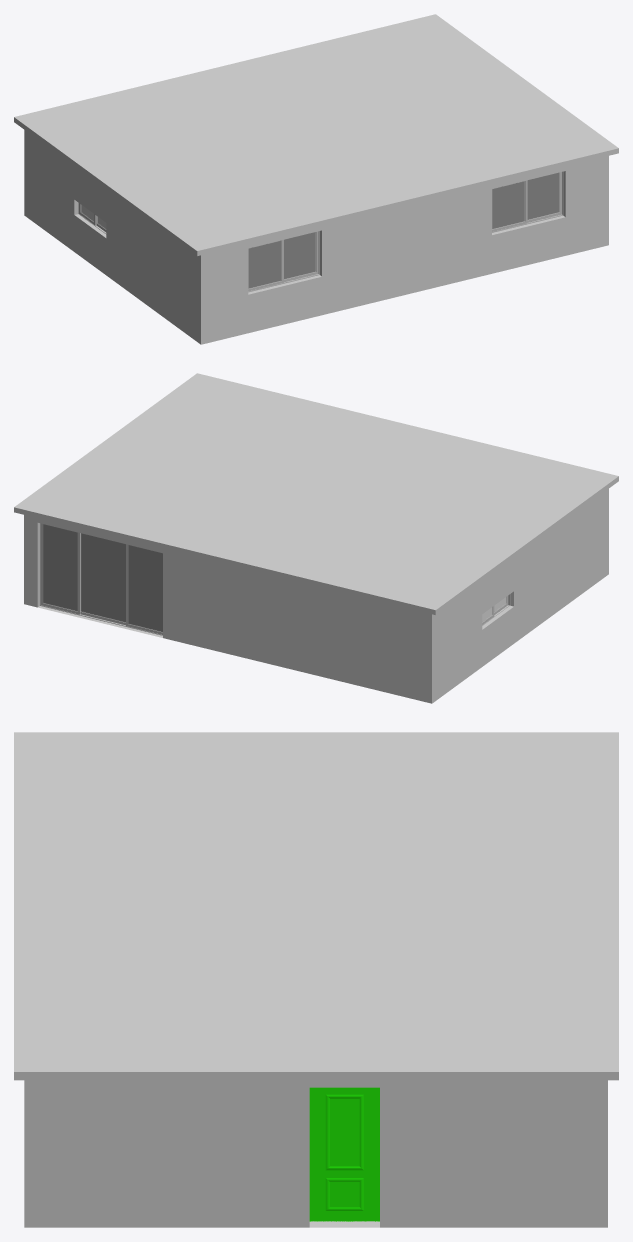
File: House.fbx
3 renders of one model, top to bottom at view 1: azimuth 30°, elevation 25°; view 2: azimuth 150°, elevation 25°; view 3: azimuth 270°, elevation 25°, orthographic. The views are drawn at different scales.
Parts seen in each view (by area): view 1: Roof, Wall003, Wall002, Wall007, Wall001, Wall013, Wall012, Door_Livingroom2_Glass004, Door_Livingroom2_Glass005, Door_Livingroom2_Glass003, Door_Livingroom2_Glass006; view 2: Roof, Wall009, Wall011, Wall007, Wall013, Door_Livingroom2_Glass001, Door_Livingroom2_Glass, Door_Livingroom2_Glass002, Wall012, Door_Livingroom004, Wall015; view 3: Roof, Wall015, Wall004, Door_Entrance, Wall016, Wall002.
Boxes of the visible parts, x1=… form: Roof: x1=14, y1=14, x2=618, y2=256; Wall003: x1=208, y1=213, x2=373, y2=342; Wall002: x1=451, y1=156, x2=608, y2=283; Wall007: x1=119, y1=199, x2=208, y2=344; Wall001: x1=373, y1=194, x2=451, y2=302; Wall013: x1=45, y1=145, x2=118, y2=284; Wall012: x1=28, y1=133, x2=45, y2=230; Door_Livingroom2_Glass004: x1=492, y1=181, x2=524, y2=228; Door_Livingroom2_Glass005: x1=248, y1=241, x2=280, y2=288; Door_Livingroom2_Glass003: x1=527, y1=172, x2=559, y2=219; Door_Livingroom2_Glass006: x1=284, y1=232, x2=315, y2=278; Roof: x1=14, y1=373, x2=618, y2=615; Wall009: x1=31, y1=517, x2=321, y2=676; Wall011: x1=322, y1=587, x2=436, y2=703; Wall007: x1=526, y1=489, x2=608, y2=633; Wall013: x1=453, y1=549, x2=526, y2=687; Door_Livingroom2_Glass001: x1=81, y1=533, x2=125, y2=621; Door_Livingroom2_Glass: x1=128, y1=545, x2=162, y2=631; Door_Livingroom2_Glass002: x1=43, y1=524, x2=77, y2=610; Wall012: x1=436, y1=603, x2=453, y2=700; Door_Livingroom004: x1=40, y1=523, x2=80, y2=614; Wall015: x1=24, y1=515, x2=31, y2=605; Roof: x1=14, y1=732, x2=618, y2=1080; Wall015: x1=295, y1=1080, x2=607, y2=1227; Wall004: x1=38, y1=1080, x2=281, y2=1227; Door_Entrance: x1=309, y1=1087, x2=379, y2=1221; Wall016: x1=281, y1=1080, x2=295, y2=1227; Wall002: x1=24, y1=1080, x2=38, y2=1227.
Bounding box in the file's own units: 114 × 25.31 × 86.08.
